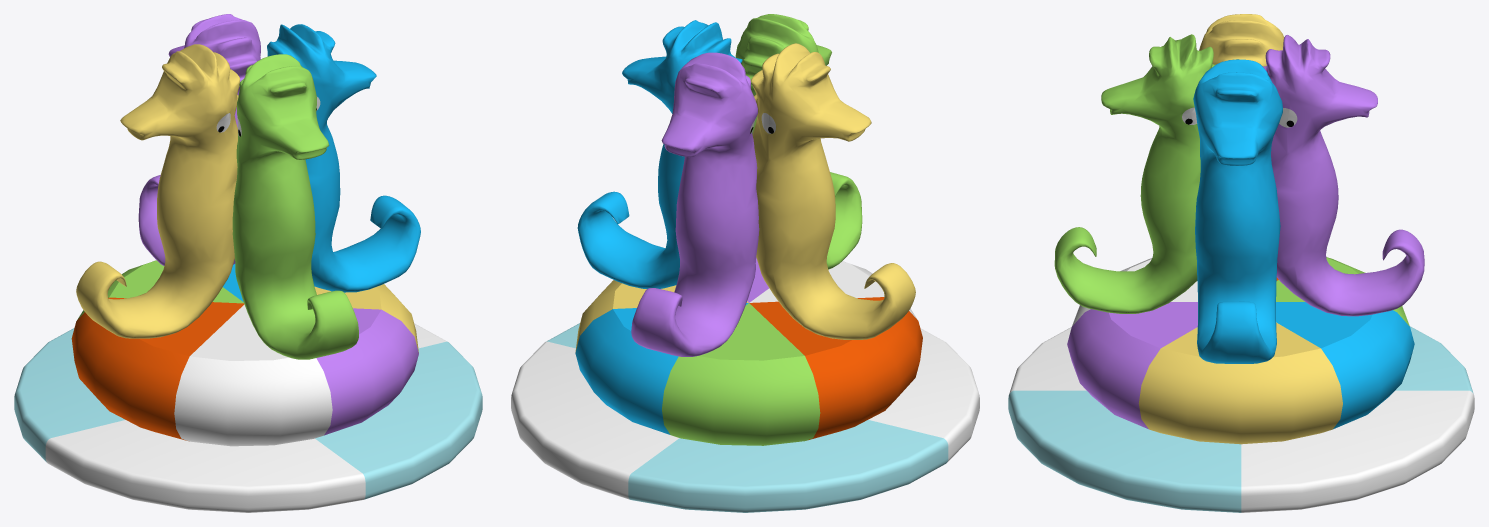
3 renders of one model, left to right at view 1: azimuth 30°, elevation 25°; view 2: azimuth 150°, elevation 25°; view 3: azimuth 270°, elevation 25°, orthographic.
Visible parts, largest first — view 1: 3DXY_geometry_004, 3DXY_geometry_005, 3DXY_geometry_003, 3DXY_geometry_006, 3DXY_geometry_002, 3DXY_geometry_001; view 2: 3DXY_geometry_004, 3DXY_geometry_005, 3DXY_geometry_001, 3DXY_geometry_003, 3DXY_geometry_002, 3DXY_geometry_006; view 3: 3DXY_geometry_004, 3DXY_geometry_005, 3DXY_geometry_002, 3DXY_geometry_001, 3DXY_geometry_006, 3DXY_geometry_003.
Part boxes in pixels (left/top/right/bottom): 3DXY_geometry_004: left=14, top=323, right=482, bottom=512; 3DXY_geometry_005: left=71, top=260, right=418, bottom=446; 3DXY_geometry_003: left=76, top=44, right=239, bottom=338; 3DXY_geometry_006: left=232, top=54, right=358, bottom=359; 3DXY_geometry_002: left=267, top=24, right=420, bottom=292; 3DXY_geometry_001: left=138, top=14, right=260, bottom=265; 3DXY_geometry_004: left=511, top=323, right=979, bottom=512; 3DXY_geometry_005: left=575, top=258, right=922, bottom=445; 3DXY_geometry_001: left=631, top=52, right=759, bottom=356; 3DXY_geometry_003: left=751, top=43, right=915, bottom=339; 3DXY_geometry_002: left=577, top=20, right=742, bottom=288; 3DXY_geometry_006: left=735, top=14, right=862, bottom=269; 3DXY_geometry_004: left=1008, top=326, right=1474, bottom=512; 3DXY_geometry_005: left=1067, top=257, right=1414, bottom=444; 3DXY_geometry_002: left=1193, top=59, right=1282, bottom=363; 3DXY_geometry_001: left=1263, top=35, right=1424, bottom=316; 3DXY_geometry_006: left=1054, top=34, right=1215, bottom=313; 3DXY_geometry_003: left=1199, top=14, right=1284, bottom=66.
Bounding box in the file's own units: 1.16 × 1.04 × 1.16.
